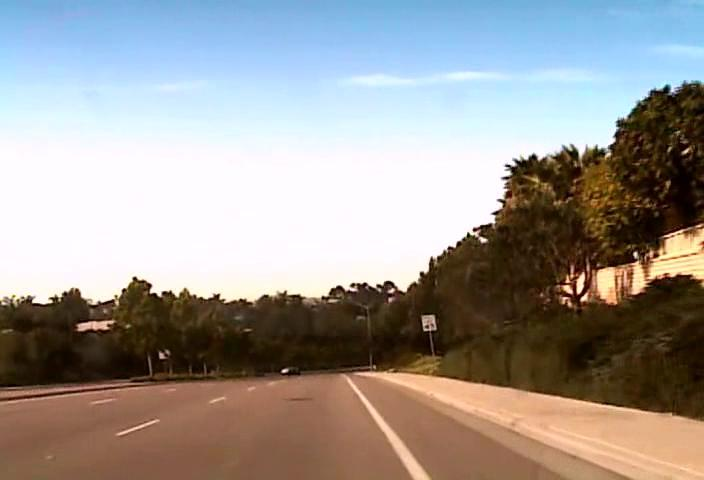speedLimitUrdbl: (420, 314, 437, 331)
